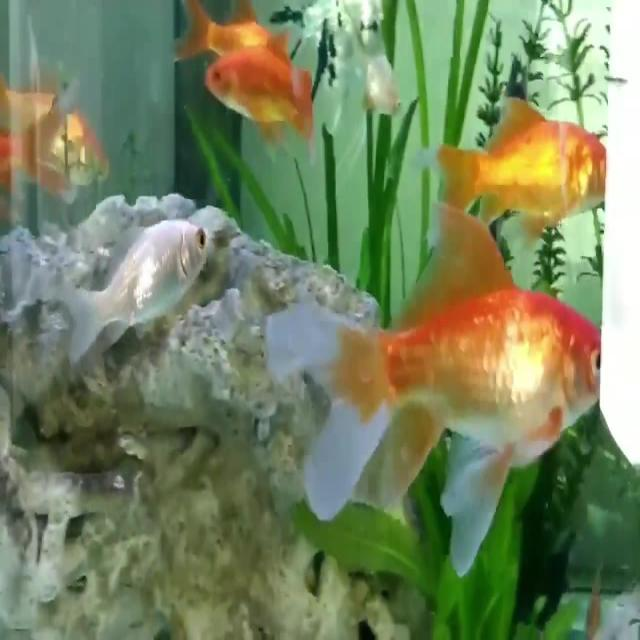GoldFish: (252, 197, 613, 543), (418, 87, 620, 242), (198, 34, 334, 168)
